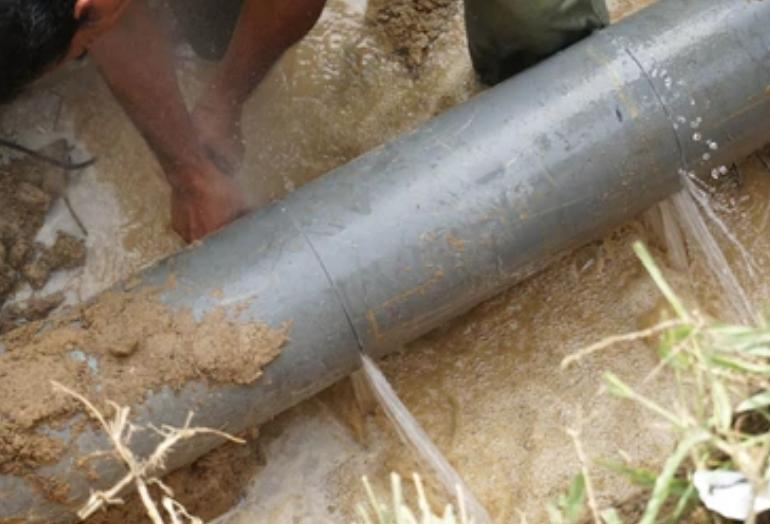pipe burst: (339, 349, 491, 524), (634, 160, 770, 333)
water accumulation: (0, 0, 770, 524)
